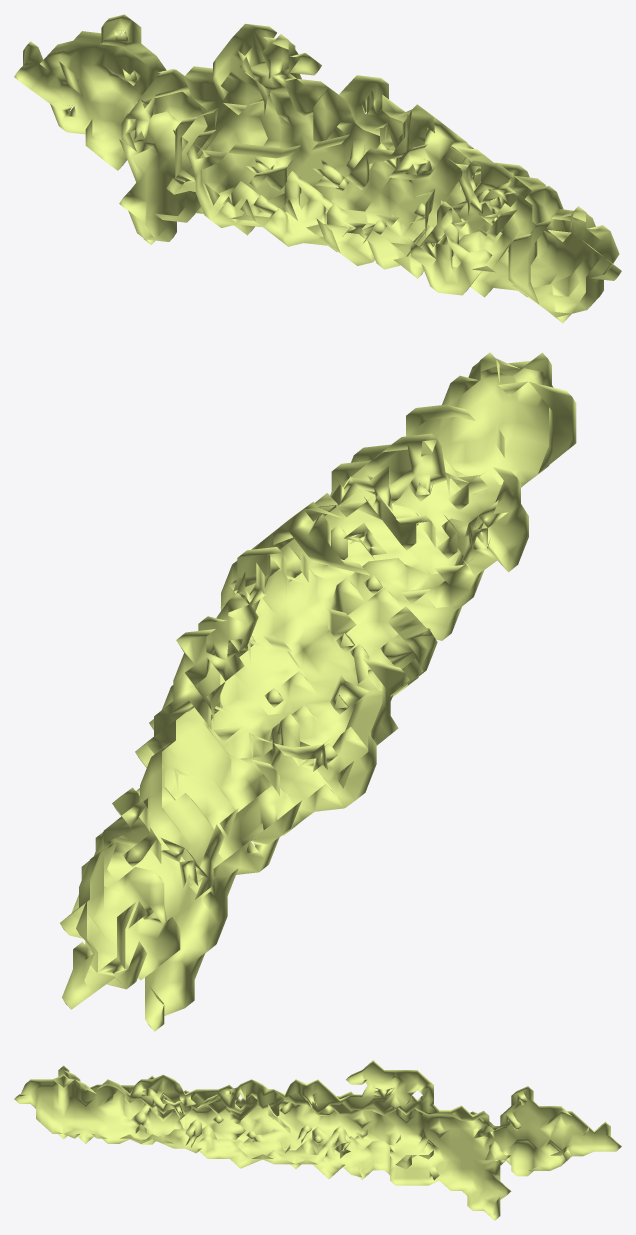
Rendered from osteocyte_87.glb.
The picture shows the model from 3 angles, top to bottom: view 1: azimuth 30°, elevation 25°; view 2: azimuth 150°, elevation 25°; view 3: azimuth 270°, elevation 25°; orthographic projection. The views are drawn at different scales.
Visible parts, largest first — view 1: osteocyte_87; view 2: osteocyte_87; view 3: osteocyte_87.
Boxes of the visible parts, x1,y1,x2,y2 form: osteocyte_87: (14,14,621,323); osteocyte_87: (60,352,576,1031); osteocyte_87: (14,1060,621,1220).
Bounding box in the file's own units: 4.92 × 7.6 × 24.59.
